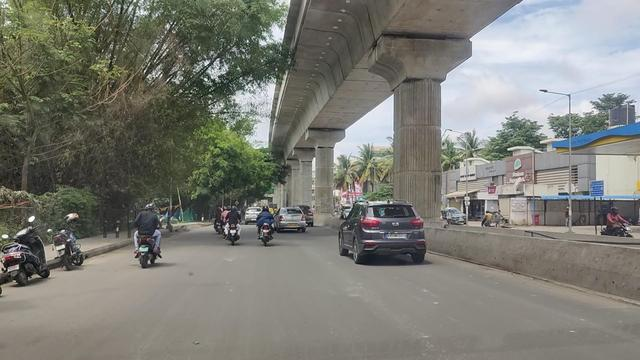LMV: (339, 198, 426, 265), (131, 196, 161, 271), (253, 200, 278, 249), (224, 200, 242, 246)
